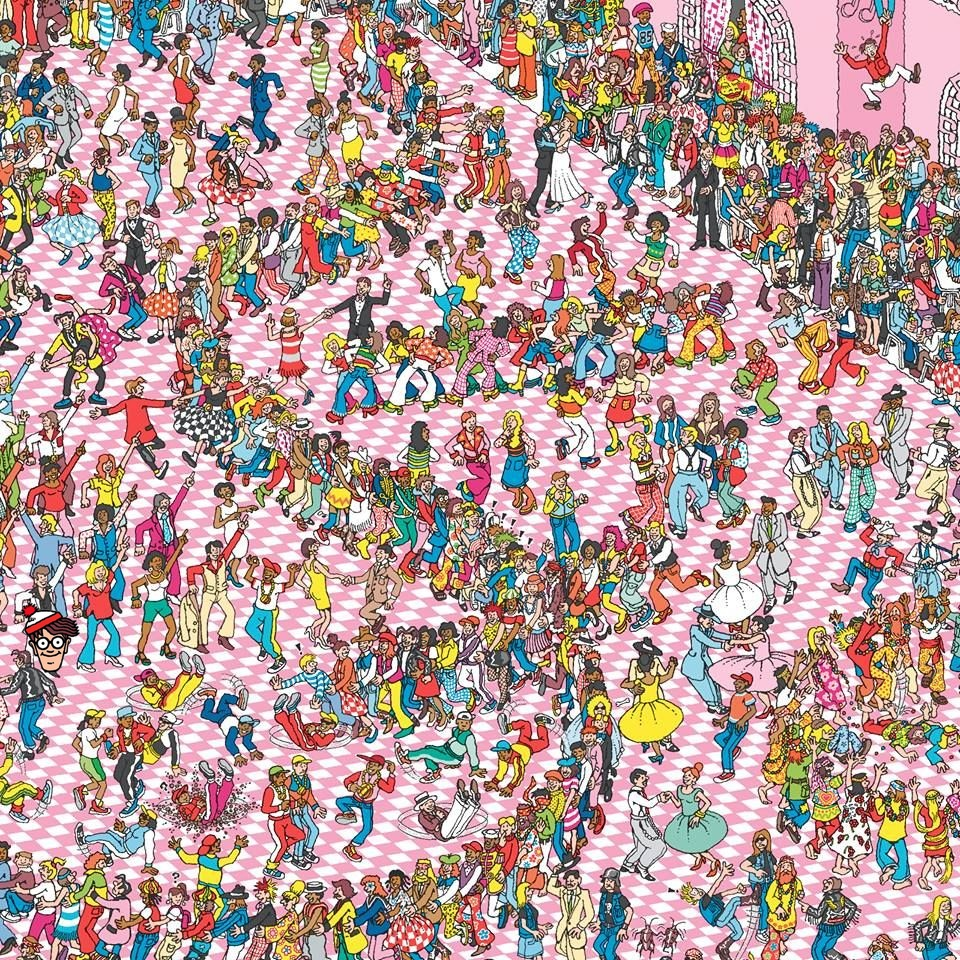waldo: (21, 602, 80, 672)
